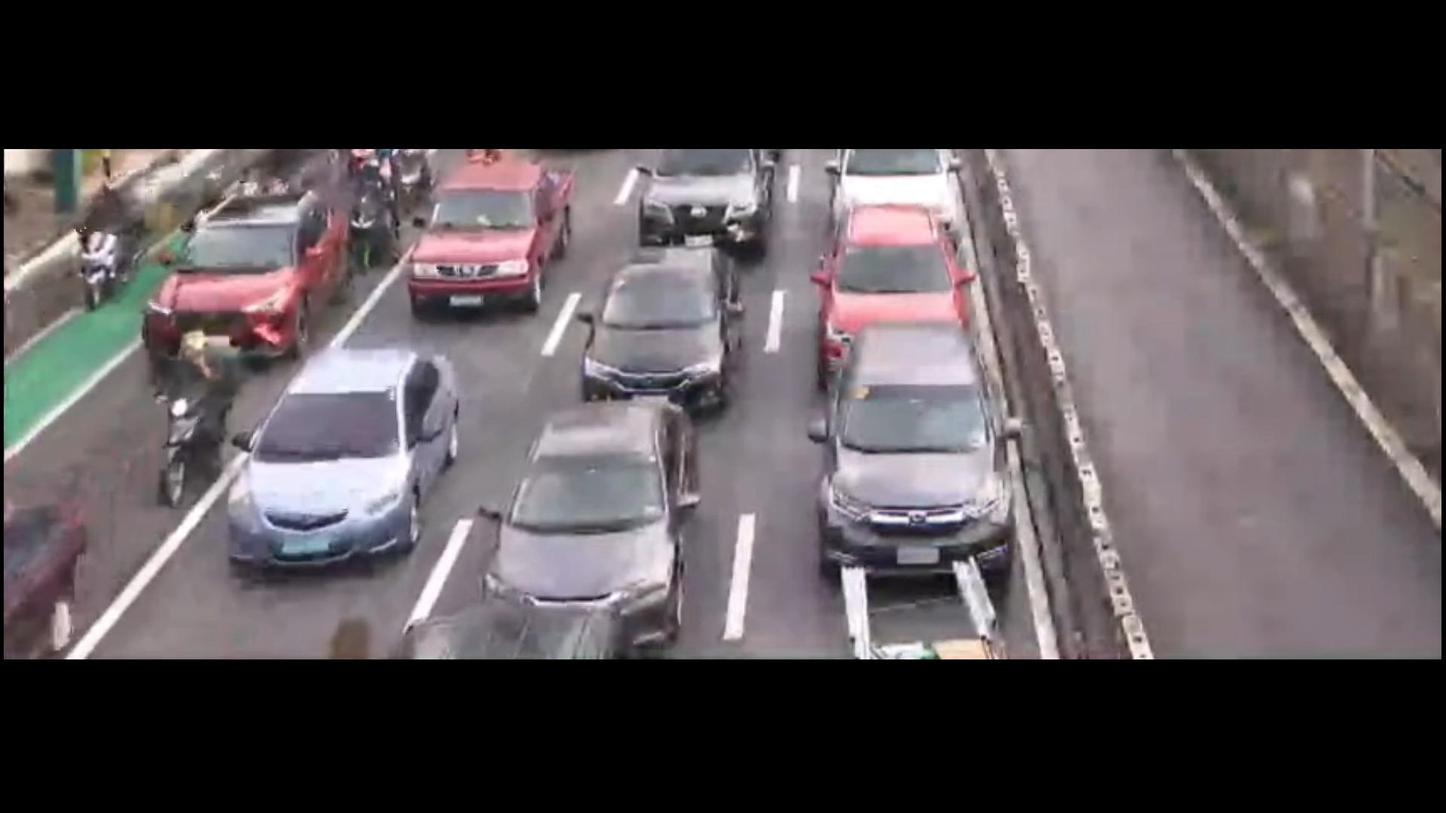Motorcycle: (141, 317, 241, 529), (69, 168, 147, 315), (349, 157, 418, 280)
Pickup: (402, 153, 578, 319)
SUV: (811, 322, 1025, 592), (147, 164, 364, 365), (807, 204, 978, 372), (810, 138, 985, 256)
Sedan: (216, 332, 456, 571), (486, 390, 725, 627), (563, 230, 767, 414)
